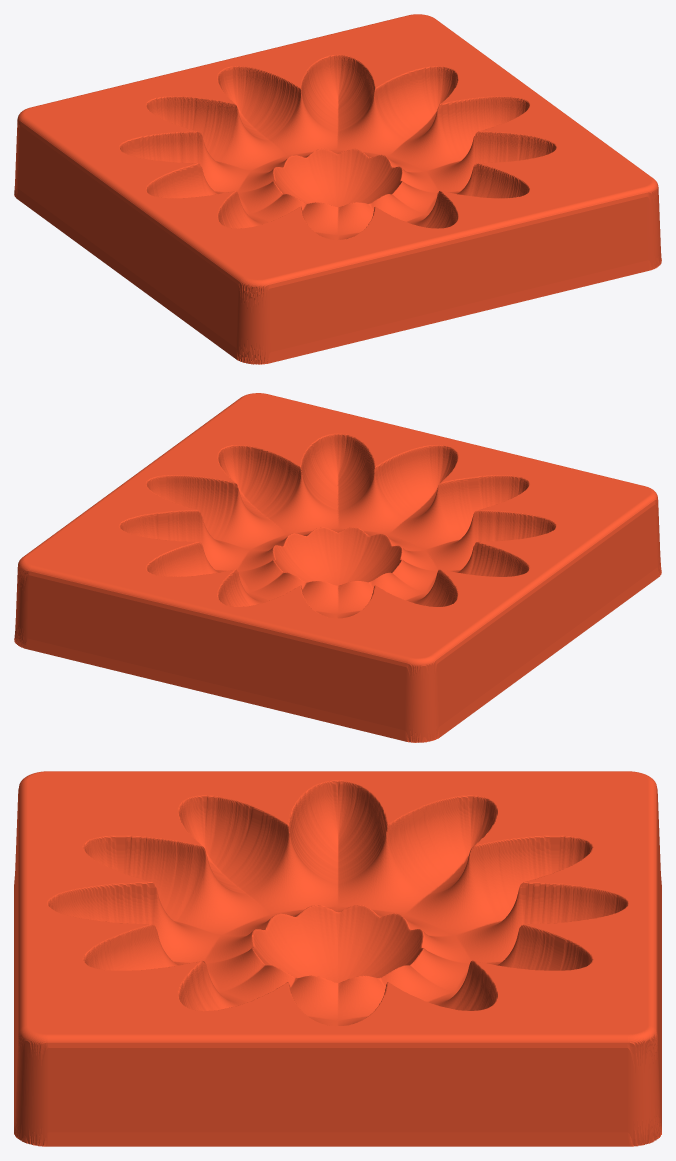
The model's file is mold.glb.
3 views of the same model, one above another, from view 1: azimuth 30°, elevation 25°; view 2: azimuth 150°, elevation 25°; view 3: azimuth 270°, elevation 25° (orthographic). The views are drawn at different scales.
Visible parts, largest first — view 1: geometry_0; view 2: geometry_0; view 3: geometry_0.
Boxes of the visible parts, <box> form: geometry_0: <box>14,14,661,364</box>; geometry_0: <box>14,393,661,742</box>; geometry_0: <box>14,771,661,1146</box>.
Bounding box in the file's own units: 0.1709 × 0.031 × 0.1709.
